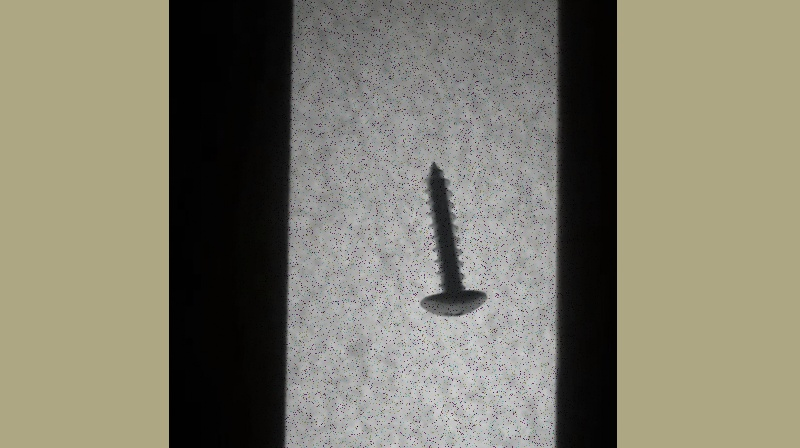S003: (419, 158, 489, 320)
